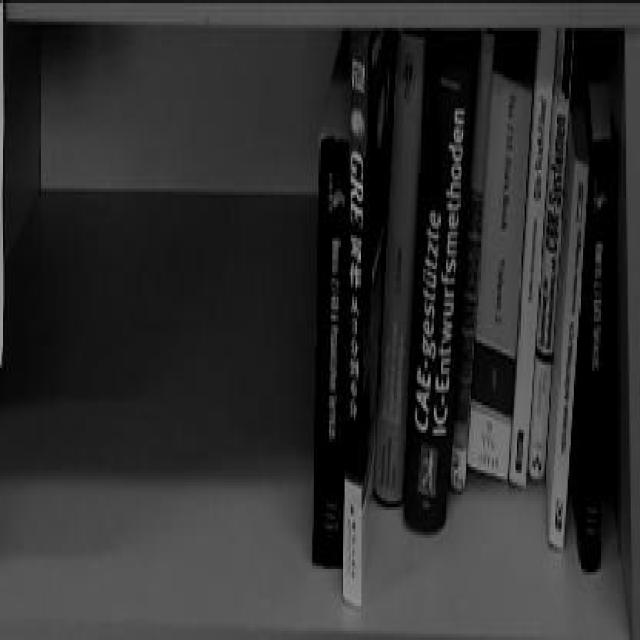book: (408, 54, 466, 542), (467, 75, 536, 480), (339, 33, 381, 607), (377, 39, 423, 514), (308, 130, 347, 573), (581, 119, 608, 586)
